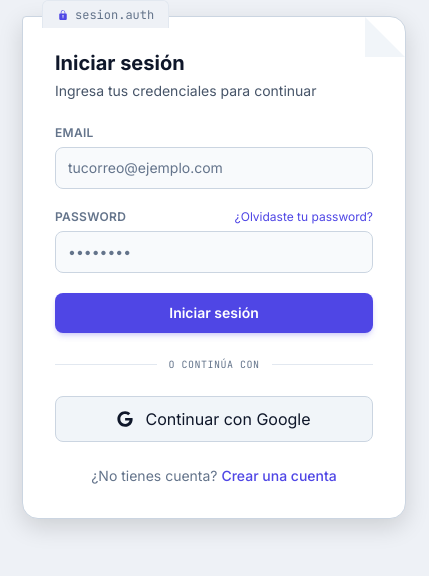
Test case: LoginView › debe mostrar error de formato si el email es inválido
Type "no-es-un-email" into the field labelled "Email" at (214, 168), box [55,147,373,189]
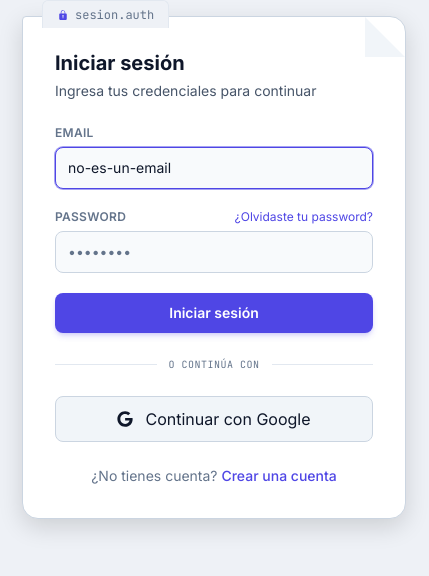
Type "password123" into the password field labelled "Password" at (214, 252), box [55,231,373,273]
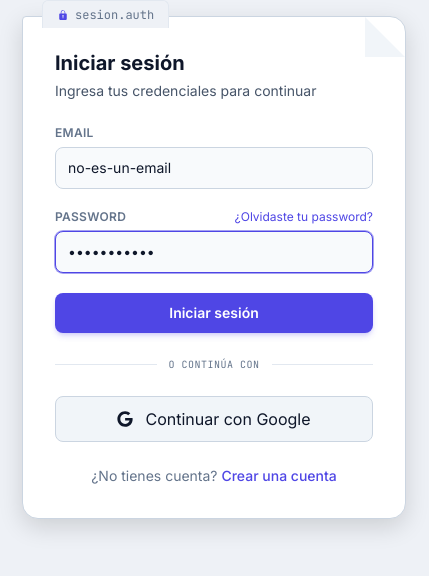
Click the button "Iniciar sesión" at (214, 313), box [55,293,373,333]
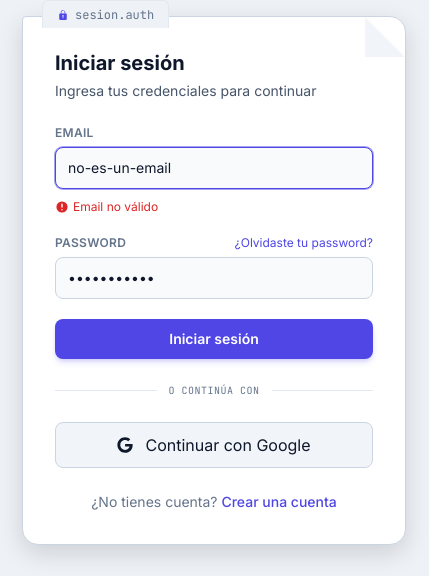
Expected: the text "Email no válido" is shown, [55,199,158,214]
